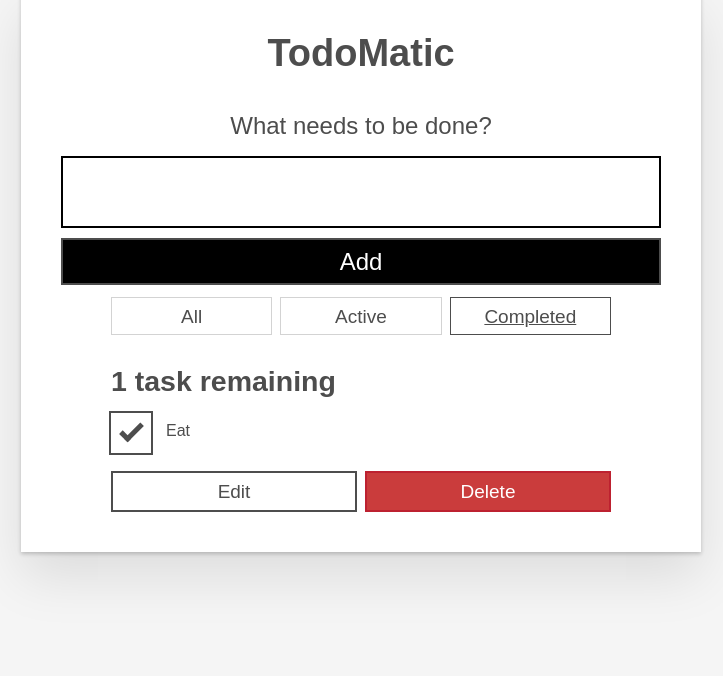
Test case: Todolist tasks › Edit a task
Click the button "All" at coordinates (192, 317), box [111,297,272,336]
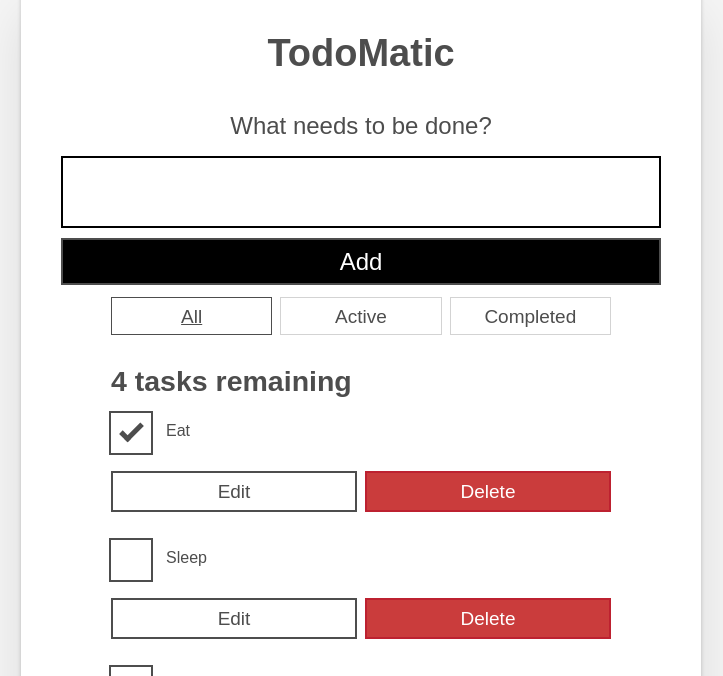
Scroll
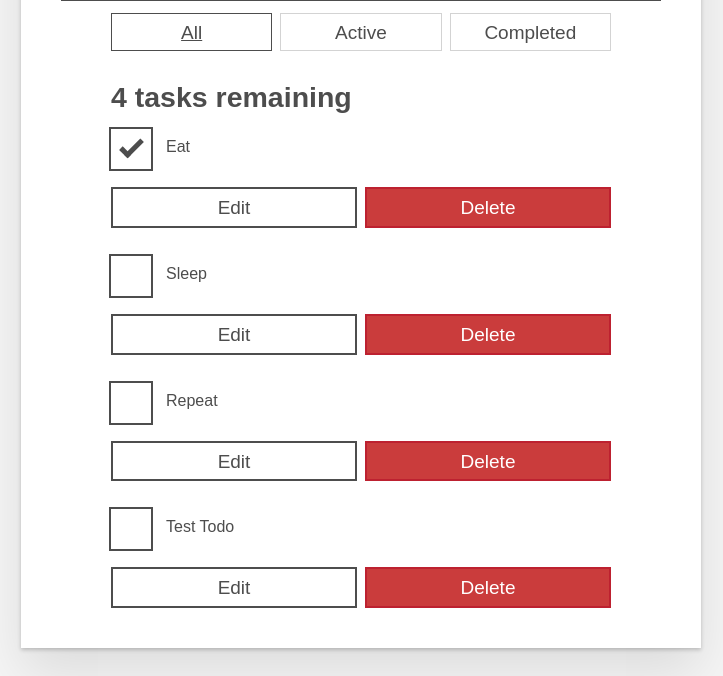
Click the button "Edit Test Todo" below "Test Todo" at coordinates (234, 588), box [111,567,357,608]
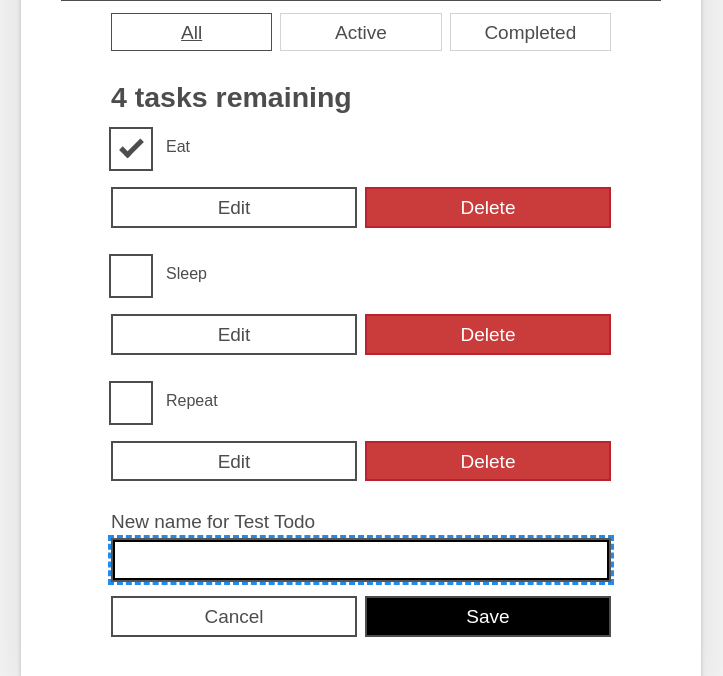
Type "Testing Todo" into the field with test id "editText" at coordinates (361, 560), box [111,538,611,582]
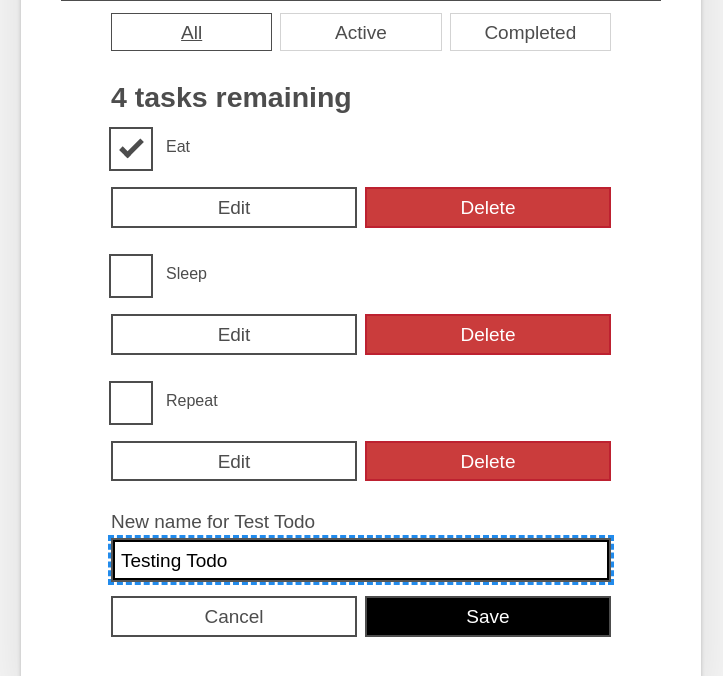
Click the button with test id "editButton" at coordinates (488, 617), box [365,596,611,637]
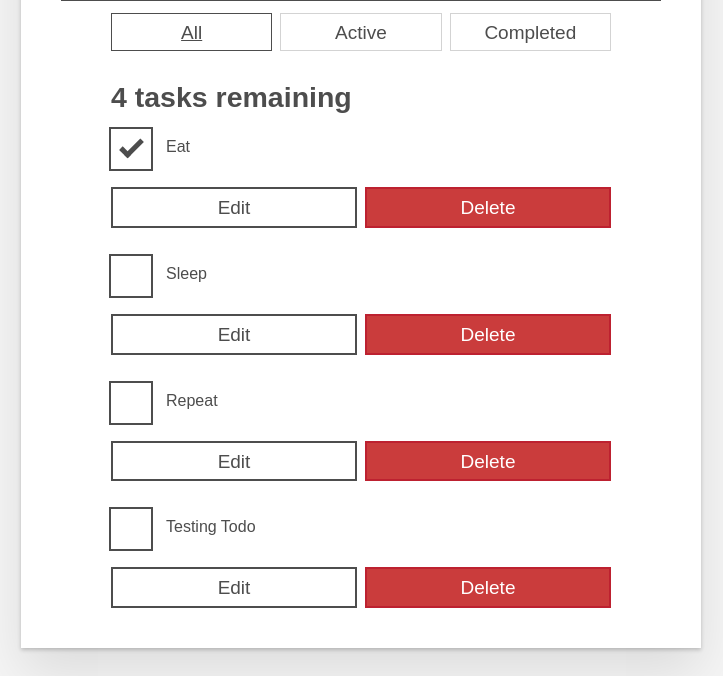
Expected: the checkbox "Testing Todo" is shown, [151,509,270,542]
